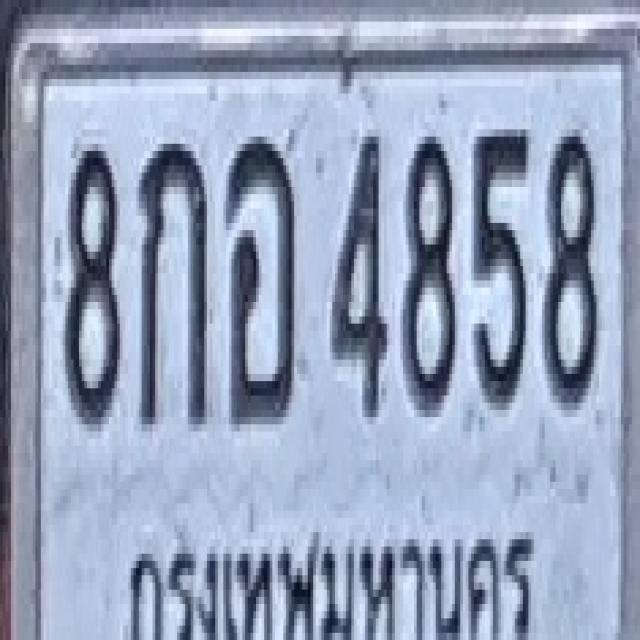4: (331, 130, 385, 417)
5: (471, 122, 528, 410)
8: (62, 140, 120, 428), (402, 129, 456, 410), (542, 126, 596, 406)
A01: (138, 137, 208, 424)
A43: (224, 133, 296, 421)
BKK: (122, 520, 536, 640)
